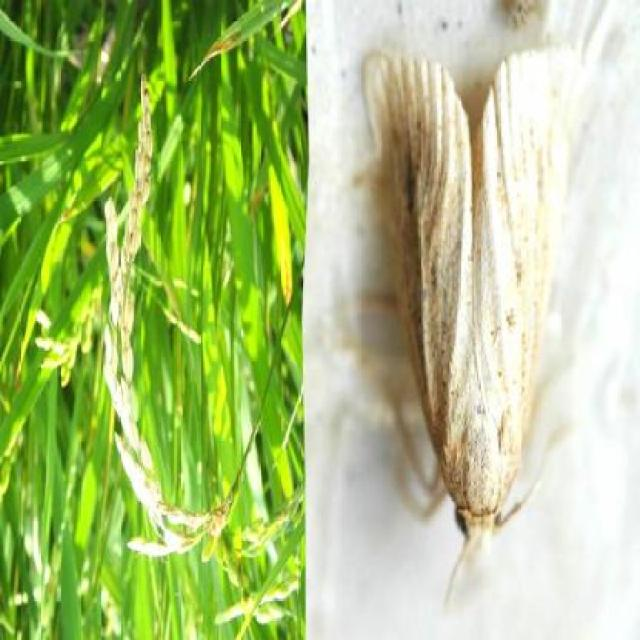stem-borer: (361, 47, 559, 584)
